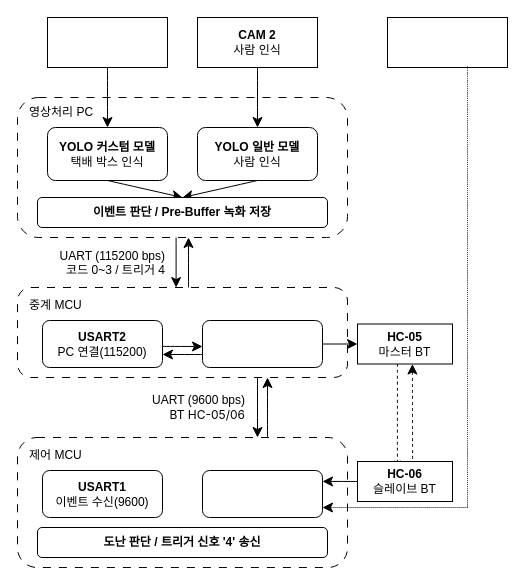
Some shapes in this 525 by 585 pixel diagram are drawn without their labels. Each missing label, with the centre of its shape:
"CAM 1 택배 상자 인식" goes at (107,42).
"RFID UID 인증" goes at (447,42).
"RFID 제어 SPI" goes at (262,494).
"USART6 제어 MUC(9600)" goes at (262,344).
